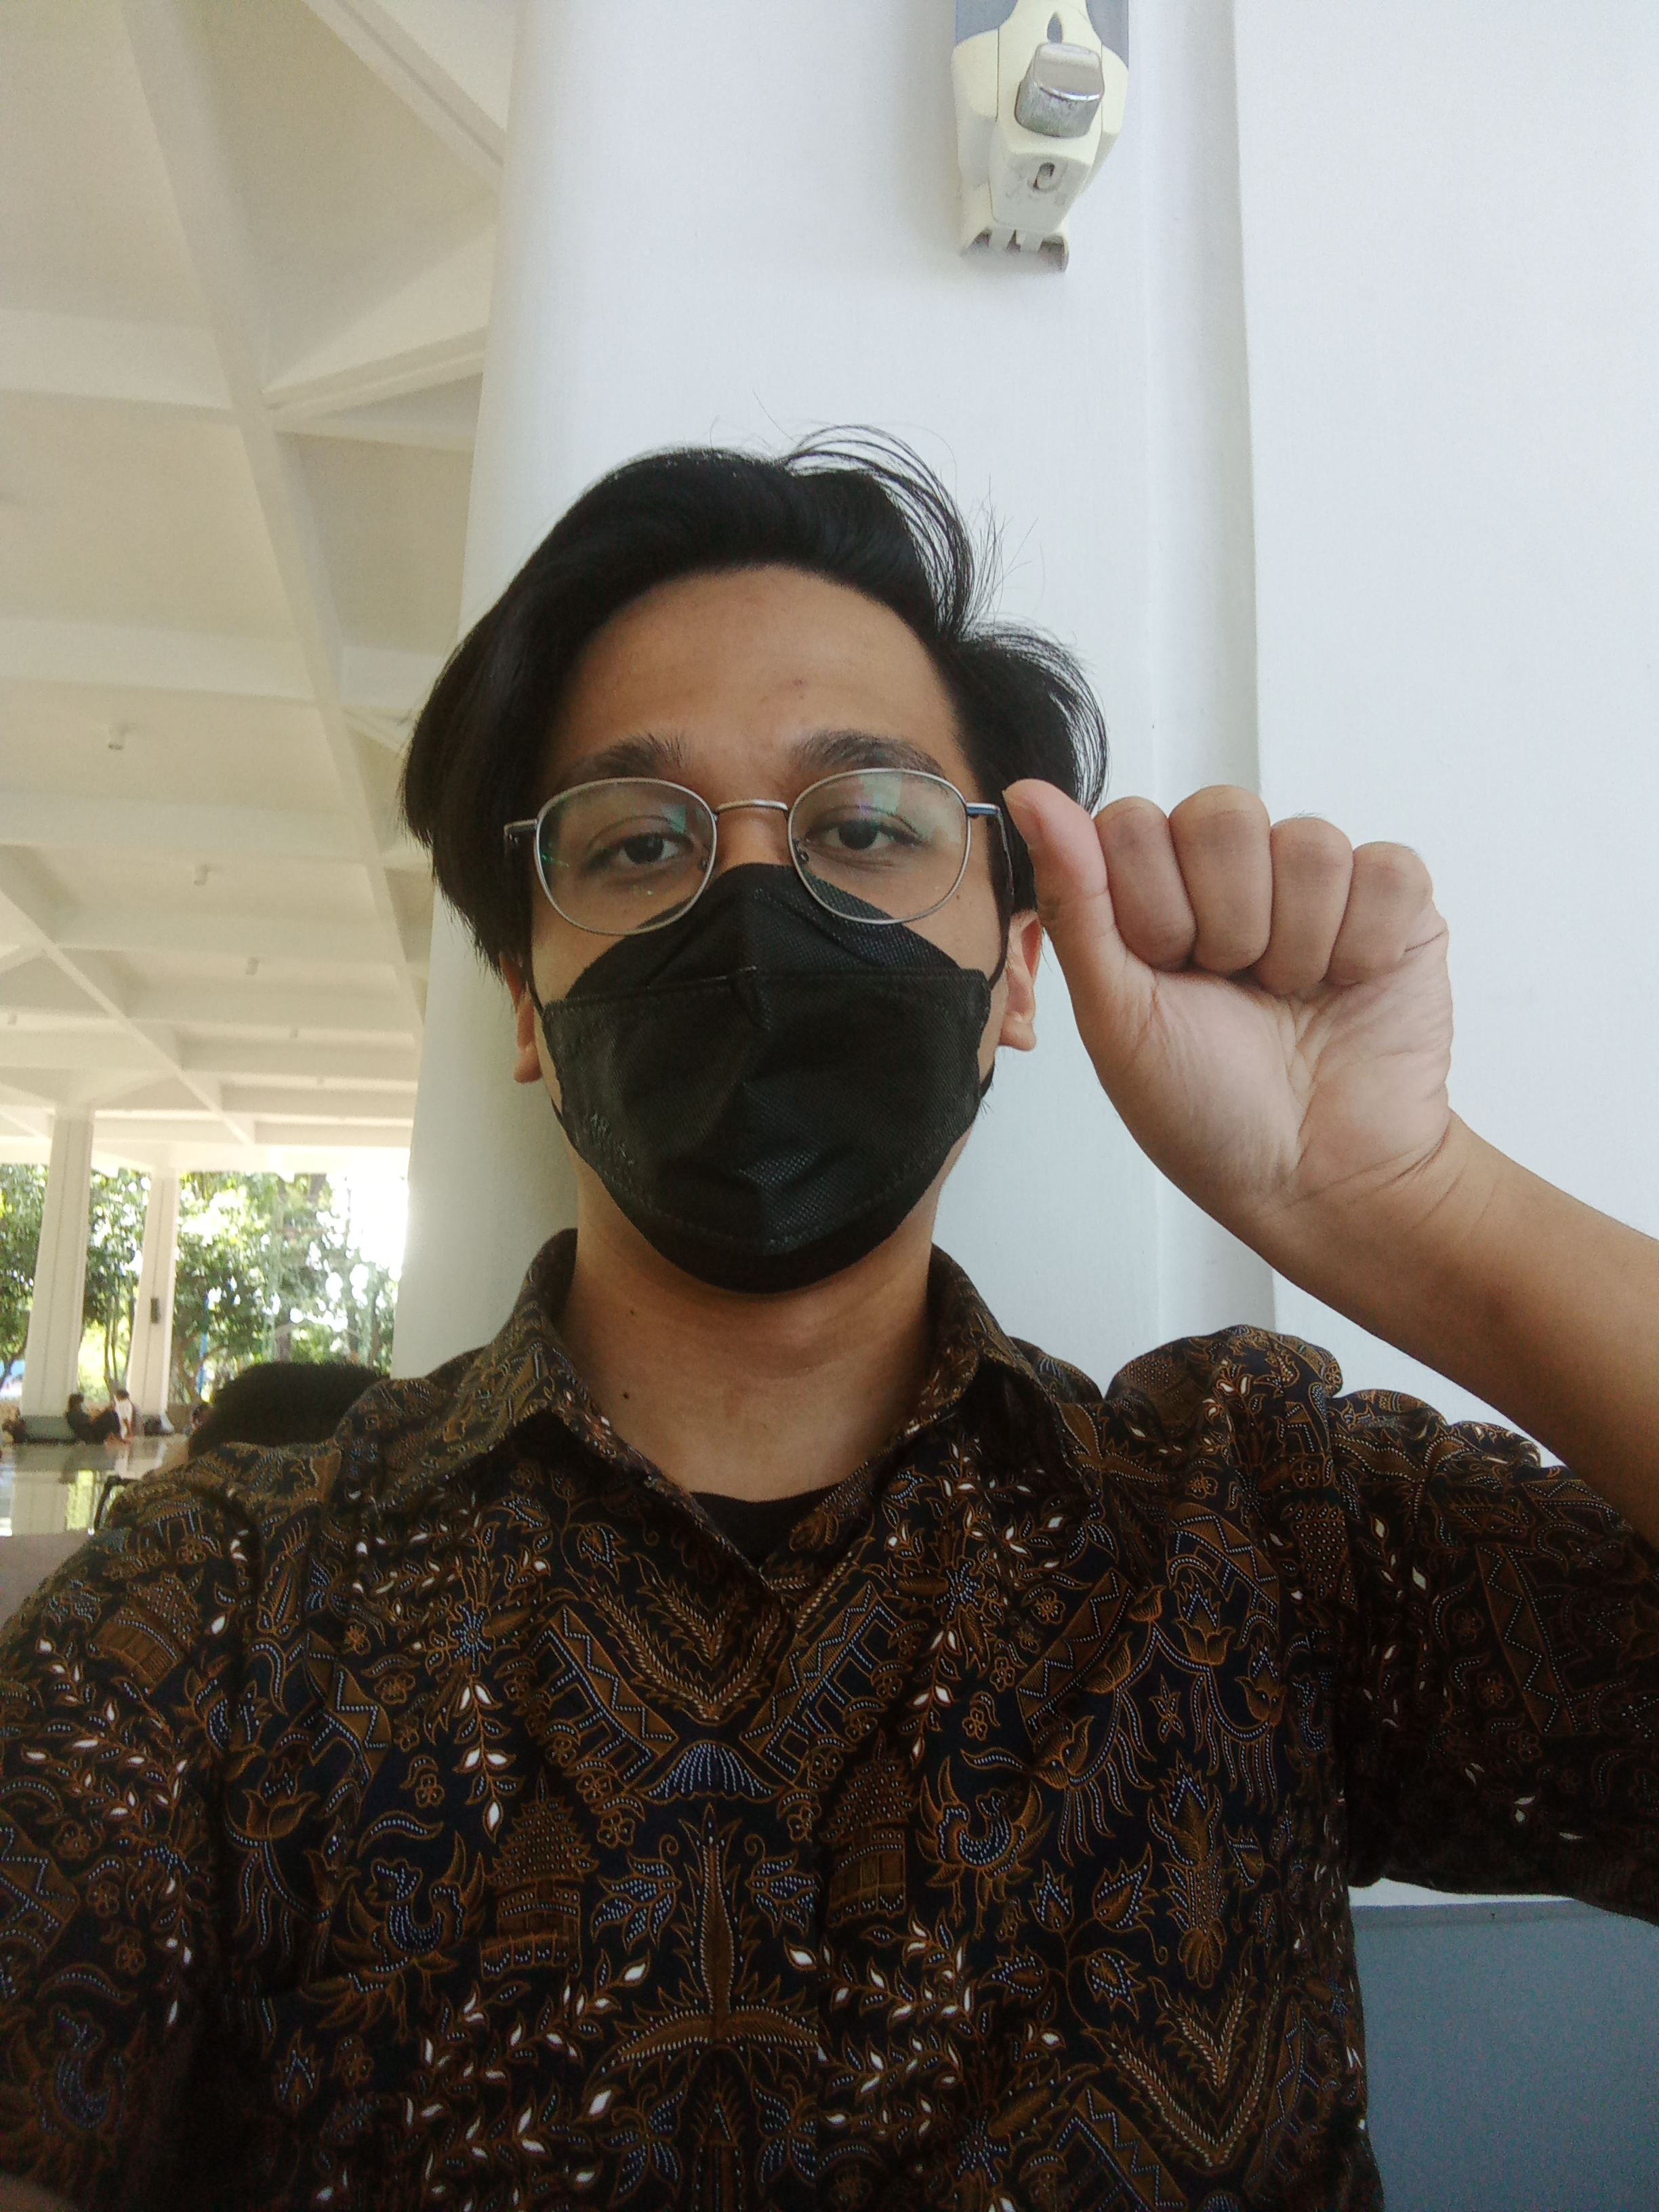A: (964, 719, 1554, 1251)
